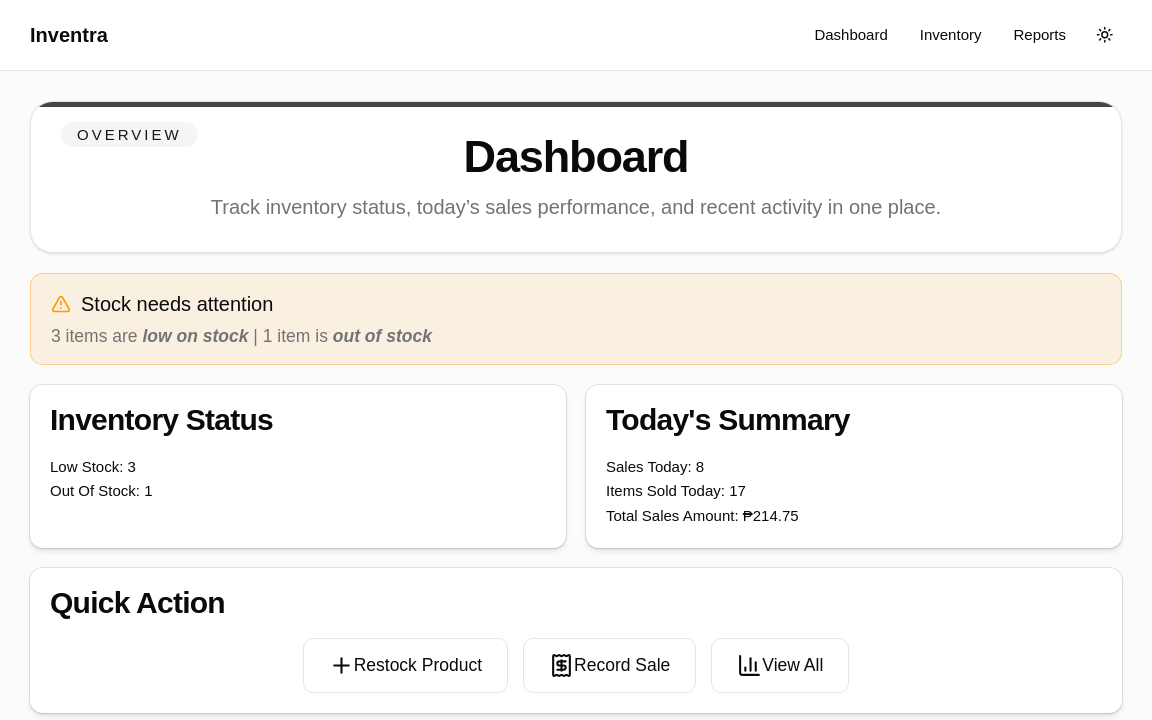
it: Dashboard Page Tests › navigates to Sale Create Page when Record Sale is clicked
The width and height of the screenshot is (1152, 720).
Click the link "Record Sale": point(610, 666) 549,653 -> 670,678
(page scrolled)
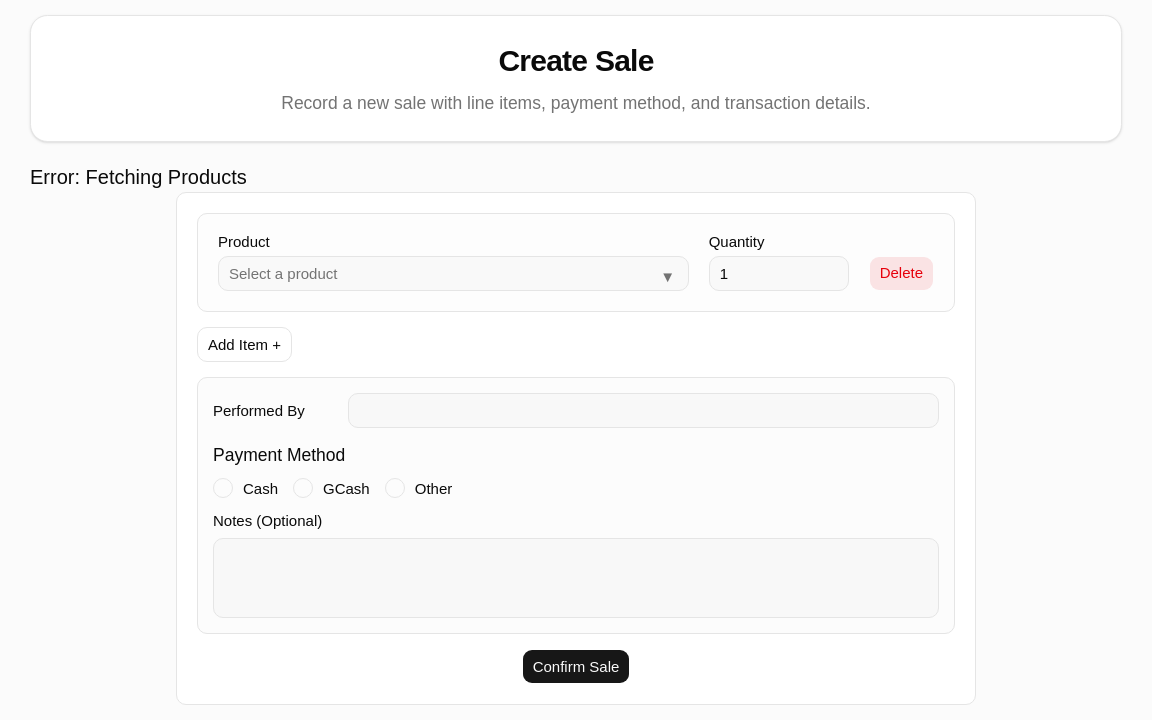
Expected: the element with test id "sale-create-page" is shown
